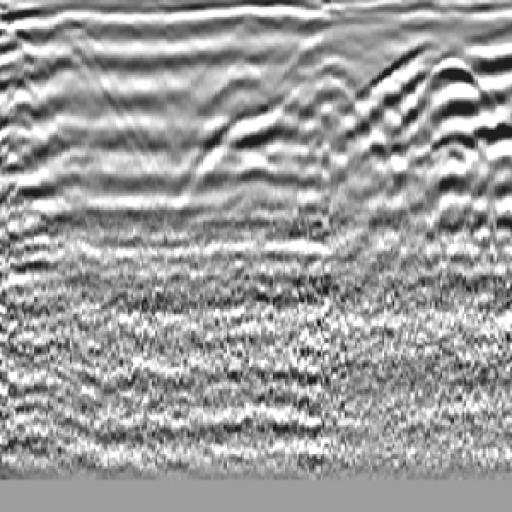non-metallic: (343, 33, 512, 230), (189, 66, 335, 222)
